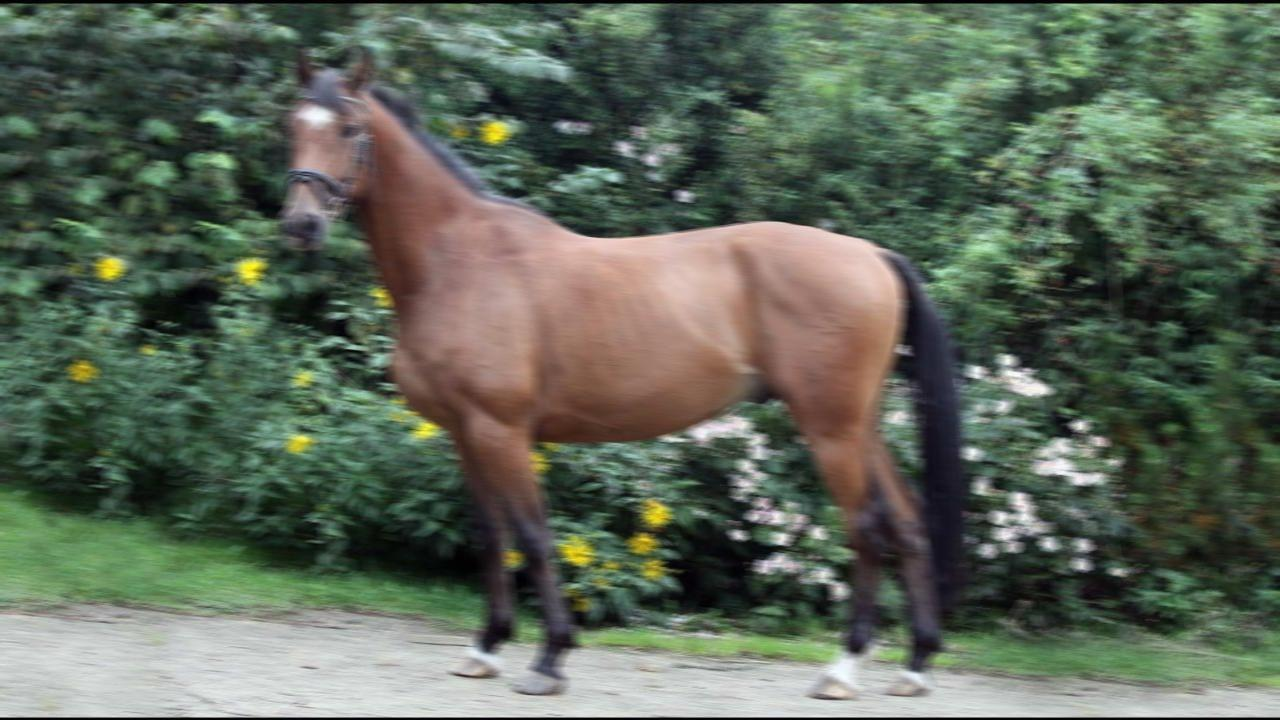horse: (271, 29, 994, 709)
